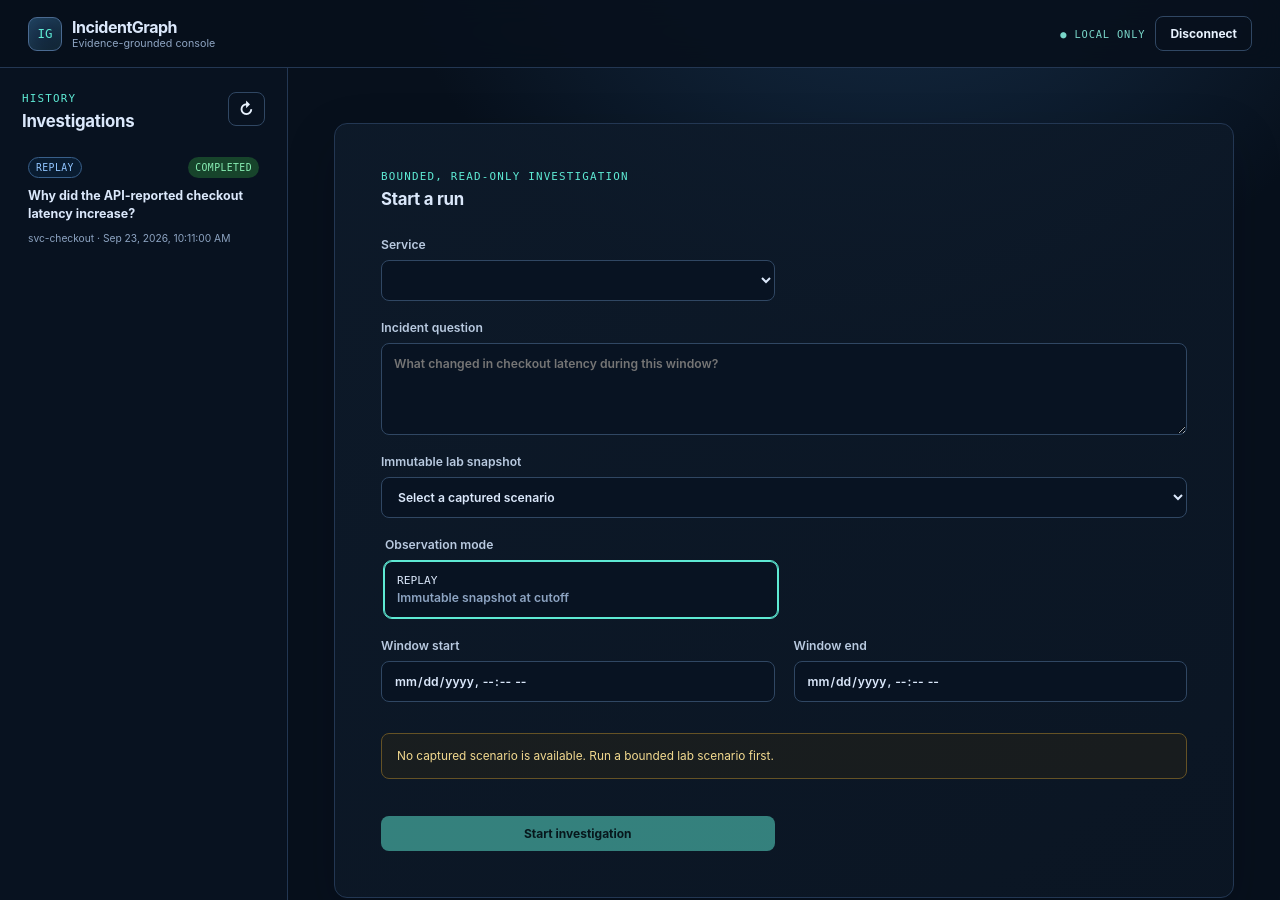
Test: IncidentGraph console › loads persisted events for an investigation that is already complete
Click the button "Why did the API-reported" at (144, 200), box [14, 143, 273, 258]
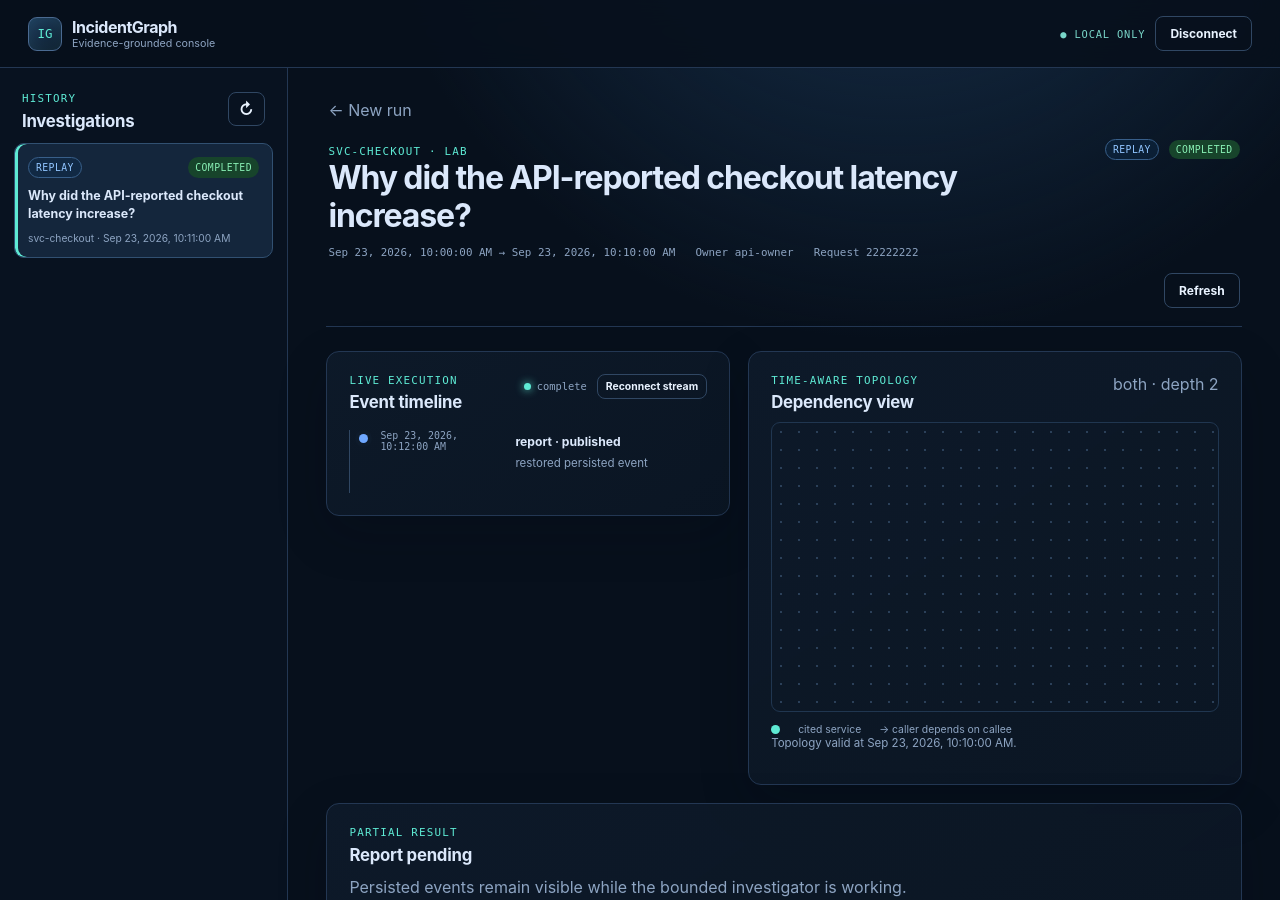
Expected: the text "restored persisted event" is shown, [515, 456, 648, 470]
Expected: the text "complete" is shown, [524, 380, 587, 392]
